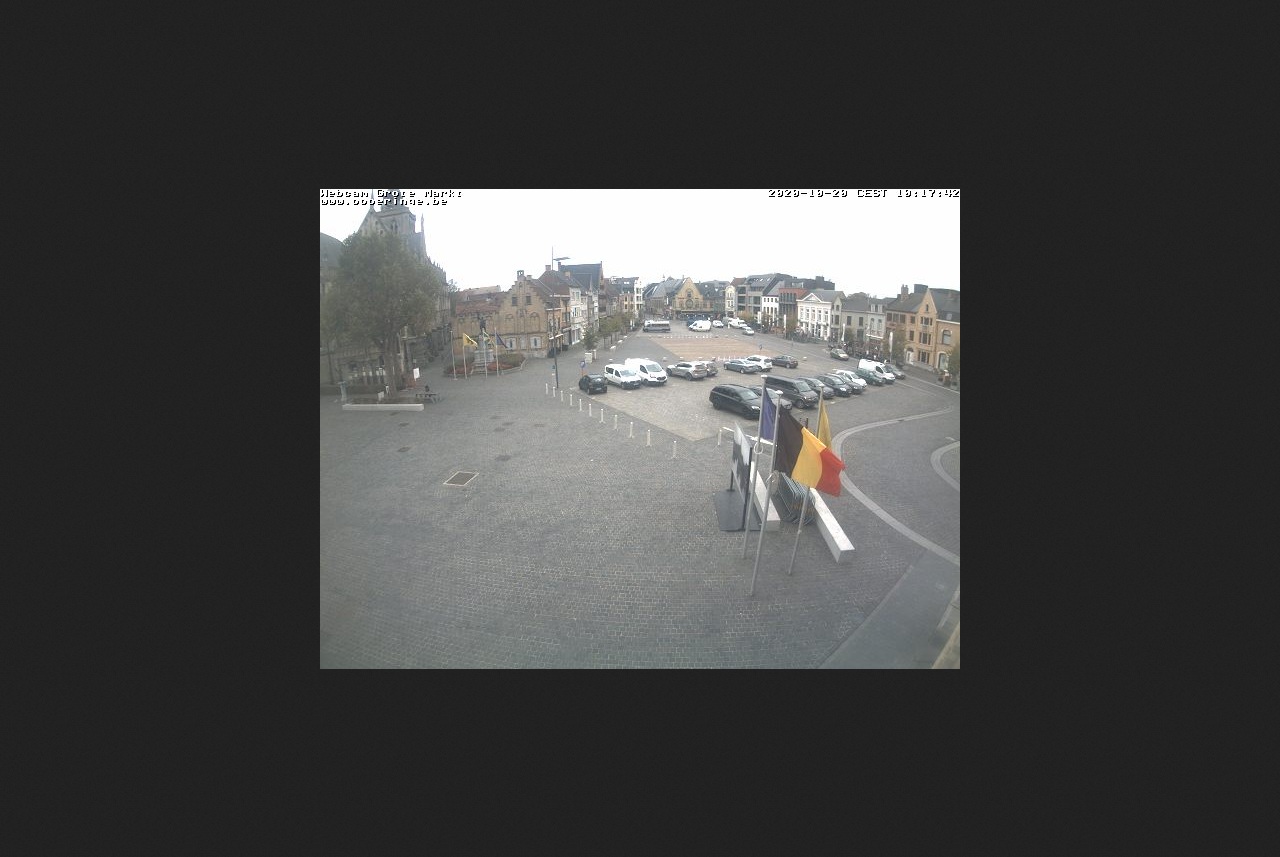maybe: (813, 388, 837, 451), (491, 326, 507, 351)
yes: (769, 400, 847, 500), (459, 332, 479, 348)
